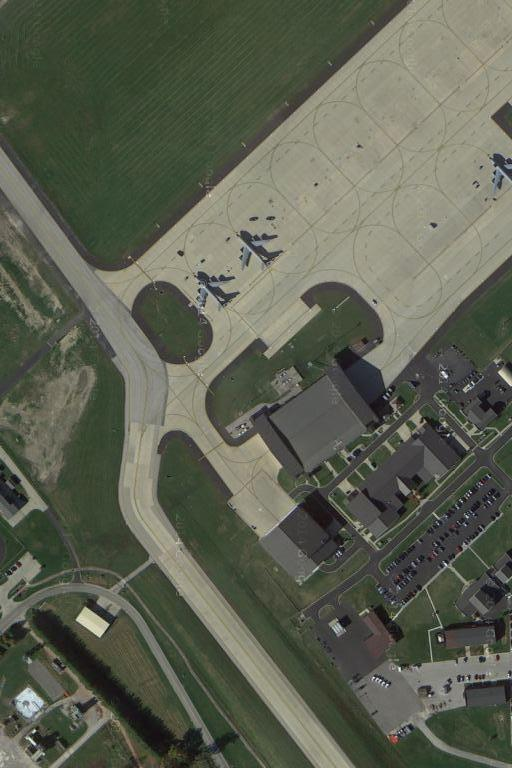KC-135: (232, 228, 279, 273), (191, 271, 237, 312)
